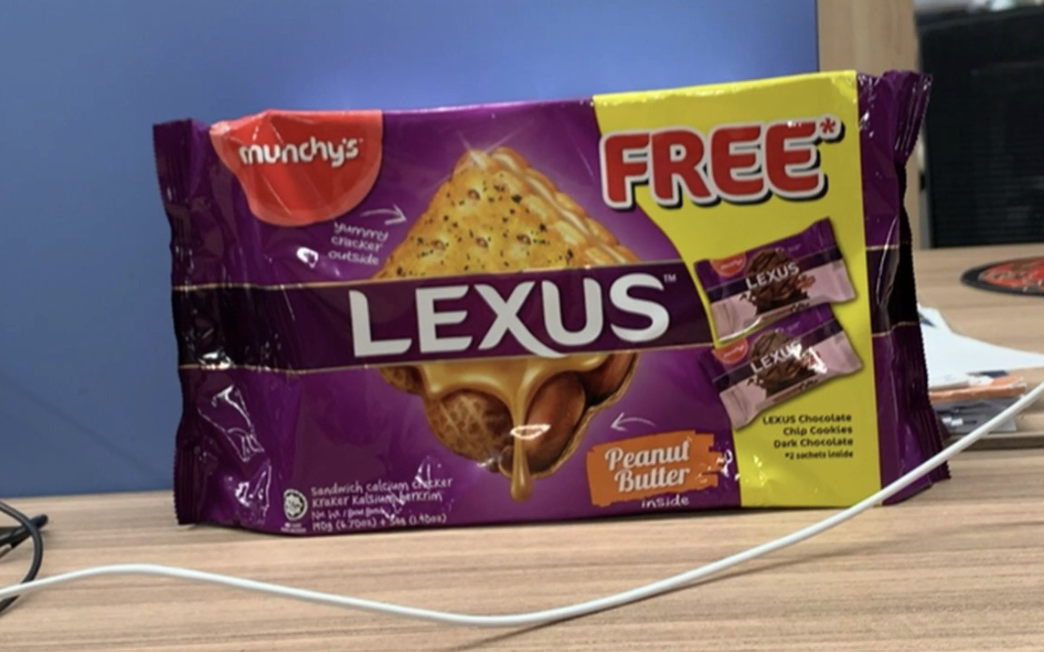crackers_150g: (228, 123, 879, 531)
